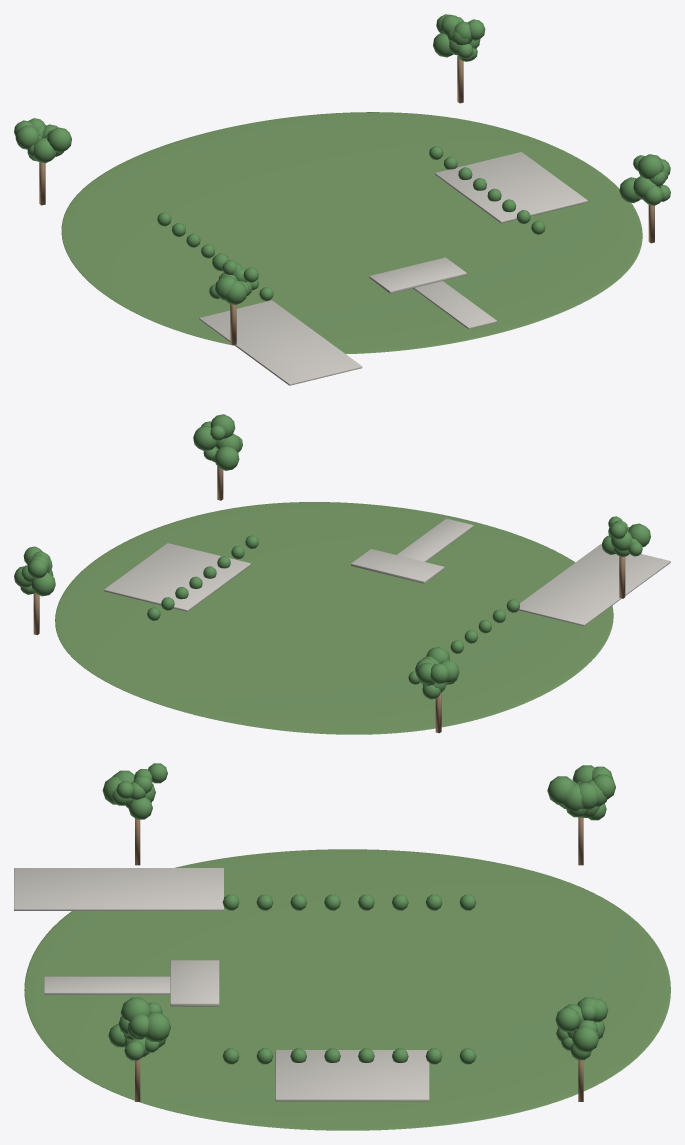
File: site.glb
The picture shows the model from 3 angles, top to bottom: view 1: azimuth 30°, elevation 25°; view 2: azimuth 150°, elevation 25°; view 3: azimuth 270°, elevation 25°; orthographic projection. The views are drawn at different scales.
Parts seen in each view (by area): view 1: PropertyLawn, Driveway, Courtyard, EntryTerrace, FrontWalkway; view 2: PropertyLawn, Driveway, Courtyard, EntryTerrace, FrontWalkway, Tree_1_Canopy_2; view 3: PropertyLawn, Driveway, Courtyard, FrontWalkway, EntryTerrace, Tree_1_Canopy_3, Tree_2_Canopy_7, Tree_3_Canopy_3.
Boxes of the visible parts, <box> form: PropertyLawn: <box>61,112,642,353</box>; Driveway: <box>199,300,362,385</box>; Courtyard: <box>434,152,587,223</box>; EntryTerrace: <box>369,257,466,293</box>; FrontWalkway: <box>413,281,496,329</box>; PropertyLawn: <box>55,502,613,734</box>; Driveway: <box>519,544,670,626</box>; Courtyard: <box>104,543,250,611</box>; EntryTerrace: <box>351,549,444,583</box>; FrontWalkway: <box>397,518,473,561</box>; Tree_1_Canopy_2: <box>214,446,239,470</box>; PropertyLawn: <box>24,849,670,1130</box>; Driveway: <box>14,868,223,910</box>; Courtyard: <box>275,1050,429,1101</box>; FrontWalkway: <box>44,976,170,994</box>; EntryTerrace: <box>170,960,219,1006</box>; Tree_1_Canopy_3: <box>145,1012,170,1041</box>; Tree_2_Canopy_7: <box>547,776,574,804</box>; Tree_3_Canopy_3: <box>572,1027,598,1052</box>.
Bounding box in the file's own units: 28.54 × 5.26 × 28.15.
